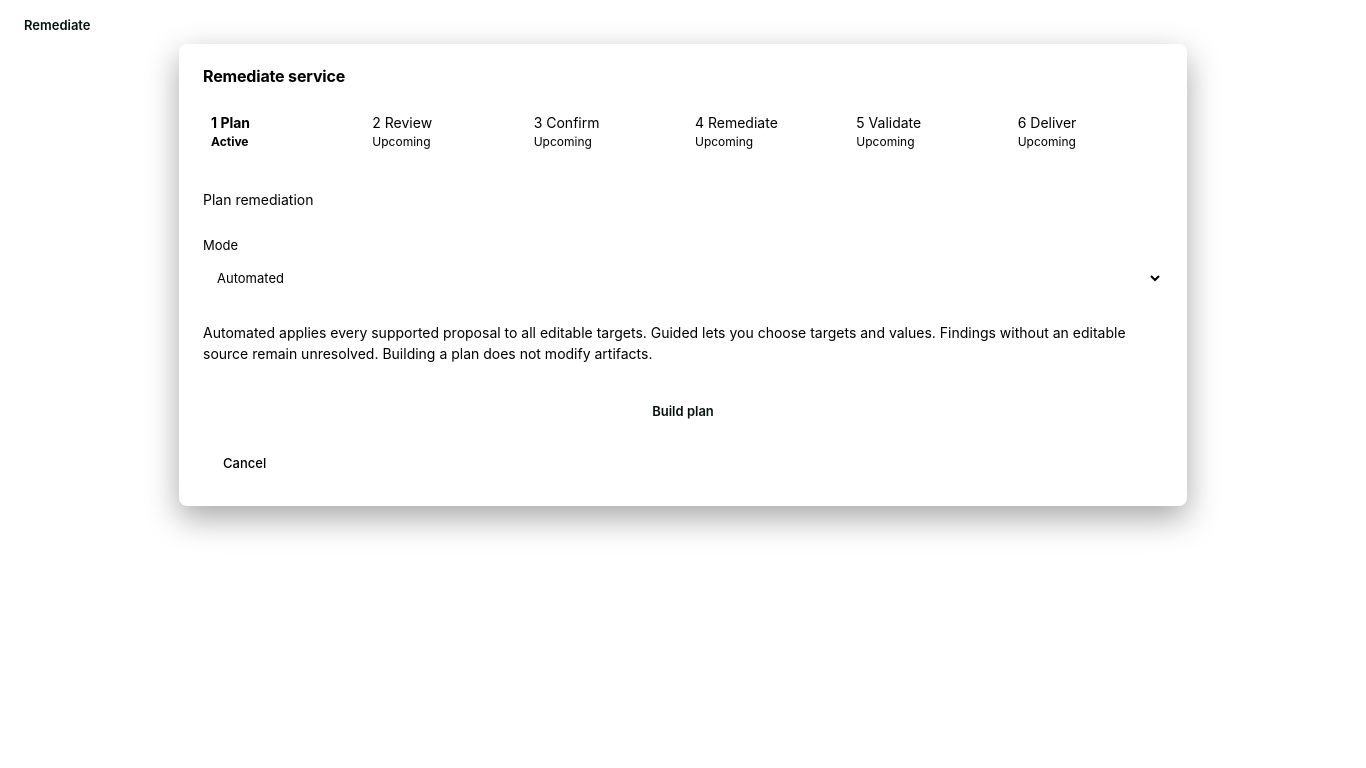
Scenario: permits returning to review and resets authorization
The width and height of the screenshot is (1366, 768).
What coordinates should you click on to do the following:
click the button "Build plan"
I would click on:
 (683, 412)
Its box is 207,394 -> 1159,430.
(page scrolled)
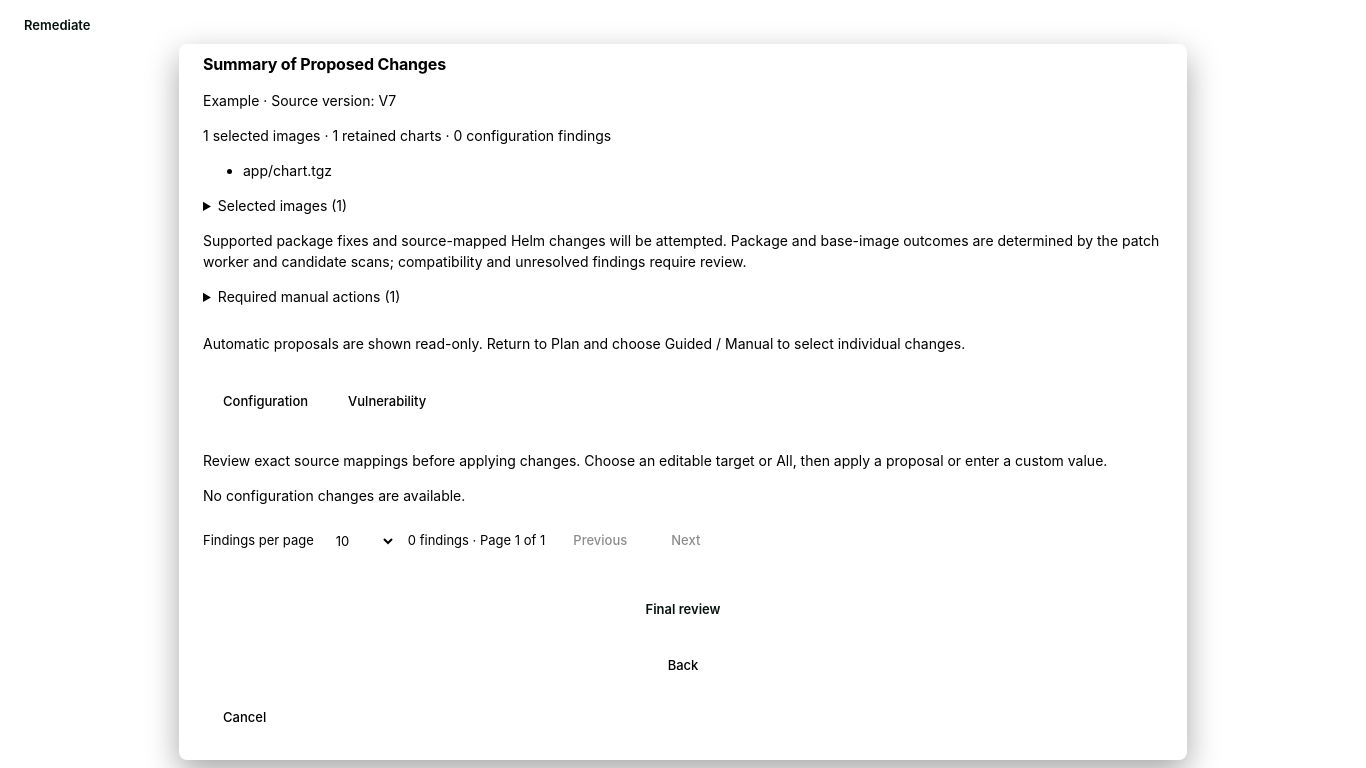
What coordinates should you click on to do the following:
click the button "Final review"
I would click on:
 (683, 610)
Its box is 207,592 -> 1159,628.
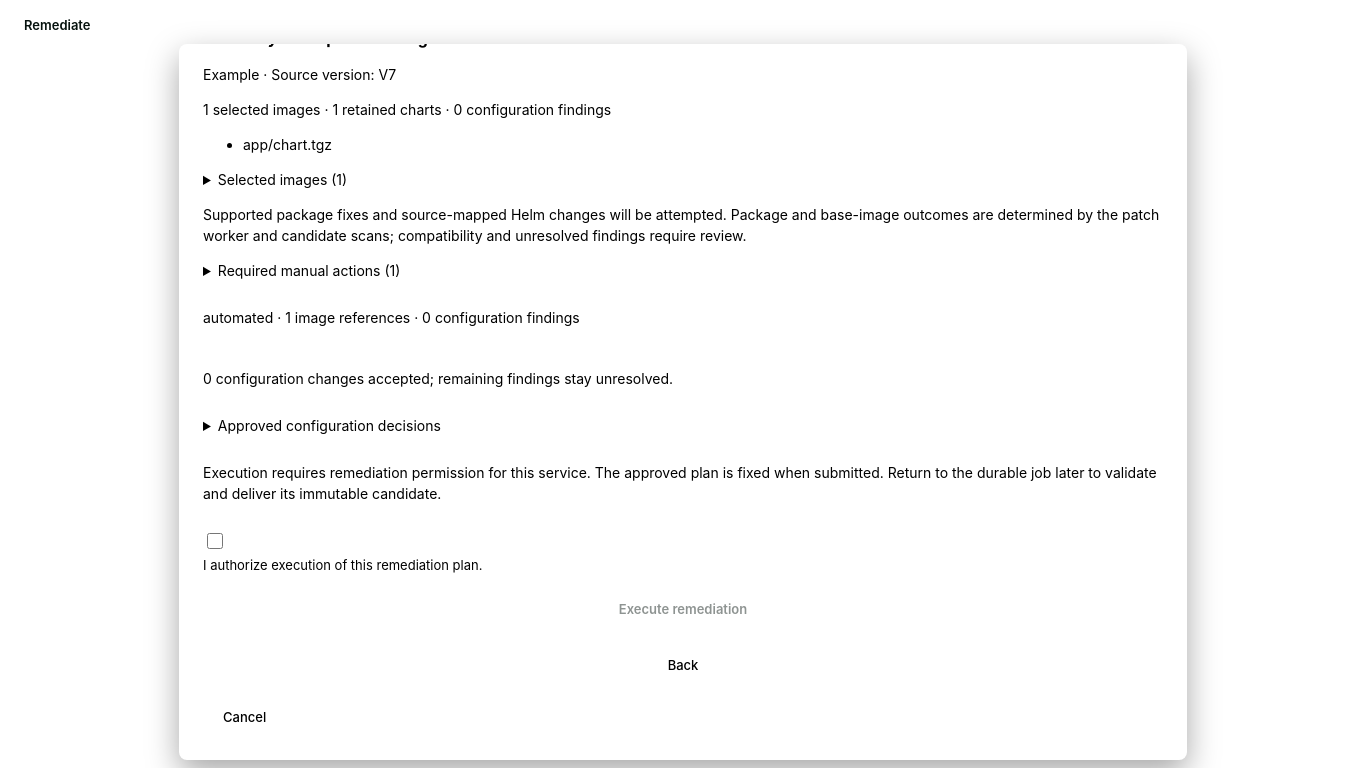
What coordinates should you click on to do the following:
click the checkbox labelled "I authorize execution of this remediation plan."
I would click on:
 (215, 541)
Its box is 207,533 -> 223,549.
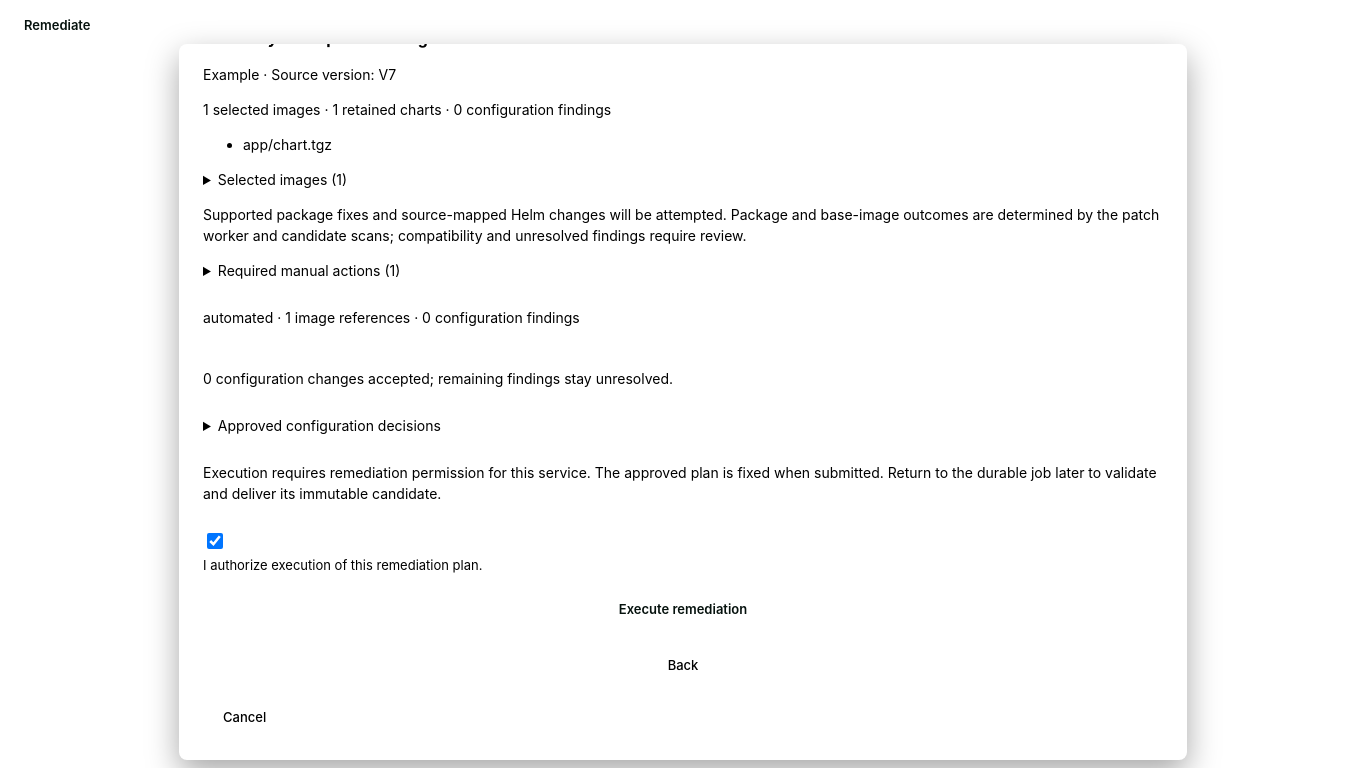
What coordinates should you click on to do the following:
click the button "Back"
I would click on:
 (683, 666)
Its box is 207,648 -> 1159,684.
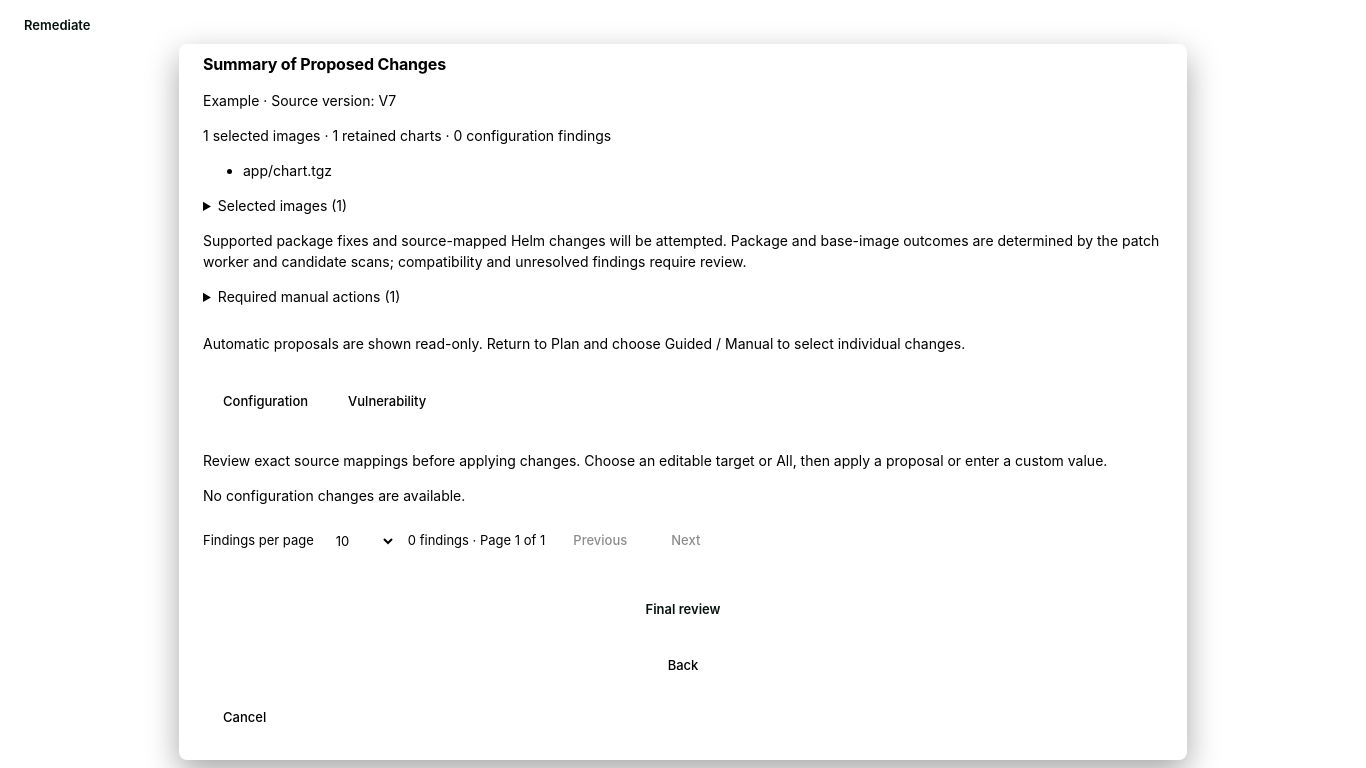
What coordinates should you click on to do the following:
click the button "Final review"
I would click on:
 (683, 610)
Its box is 207,592 -> 1159,628.
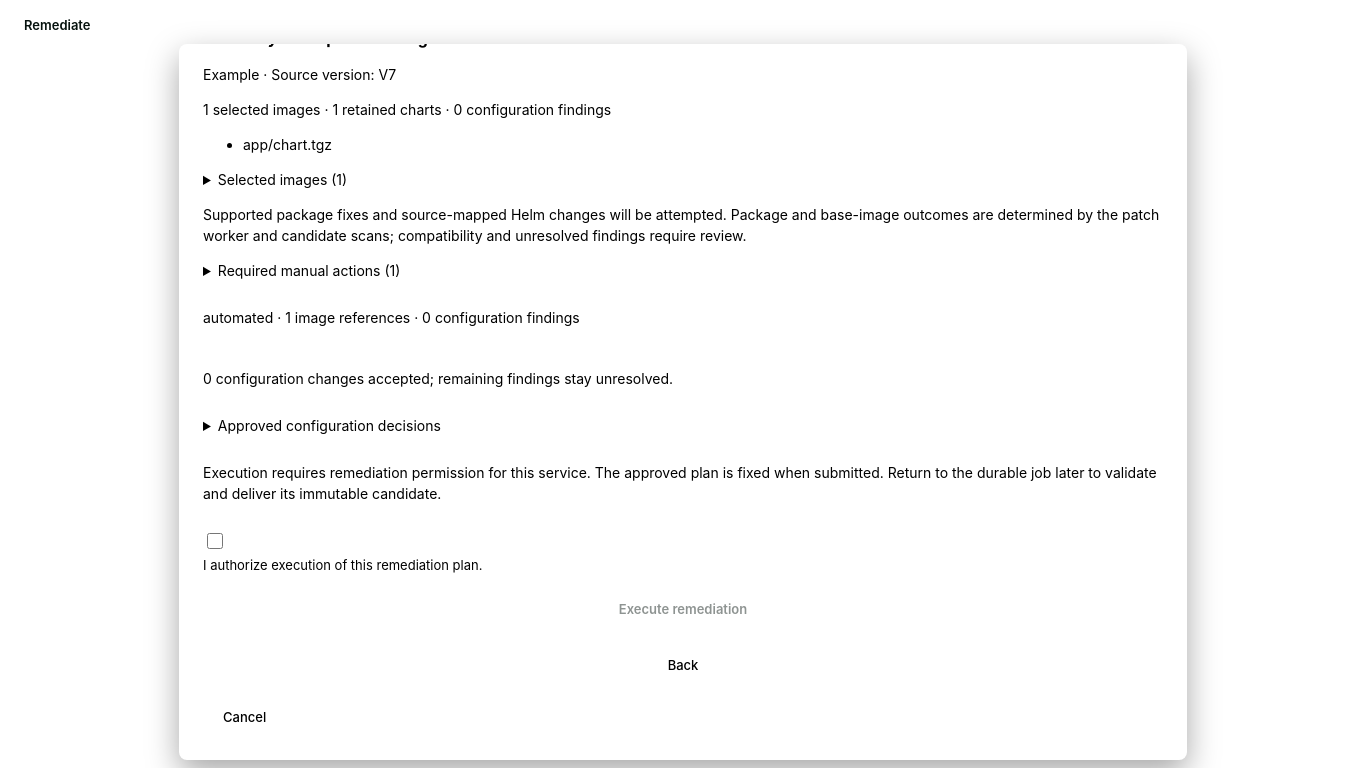
Result: the button "Execute remediation" is disabled at 207,592 -> 1159,628
